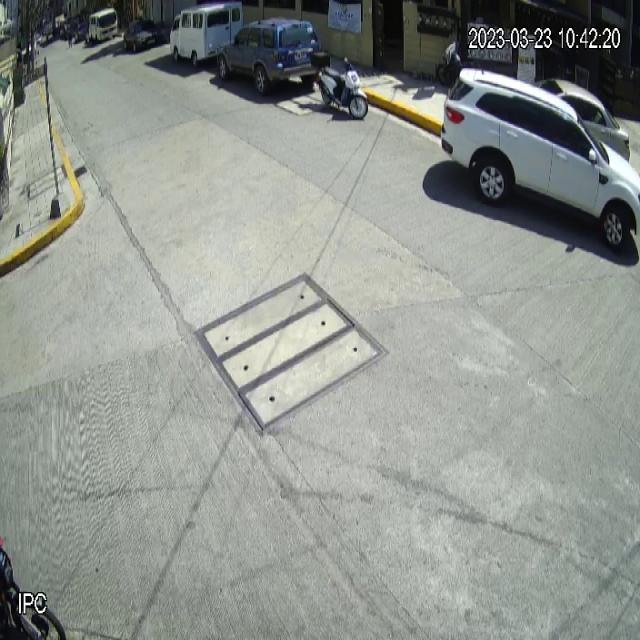Car: (441, 66, 640, 255), (216, 16, 323, 96)
Motorcycle: (312, 50, 368, 121)
Van: (169, 0, 242, 69)
